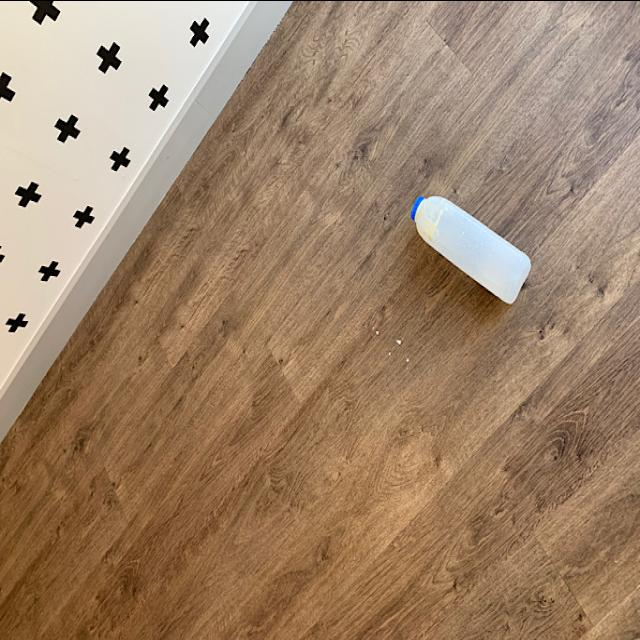HDPEM: (412, 192, 533, 304)
